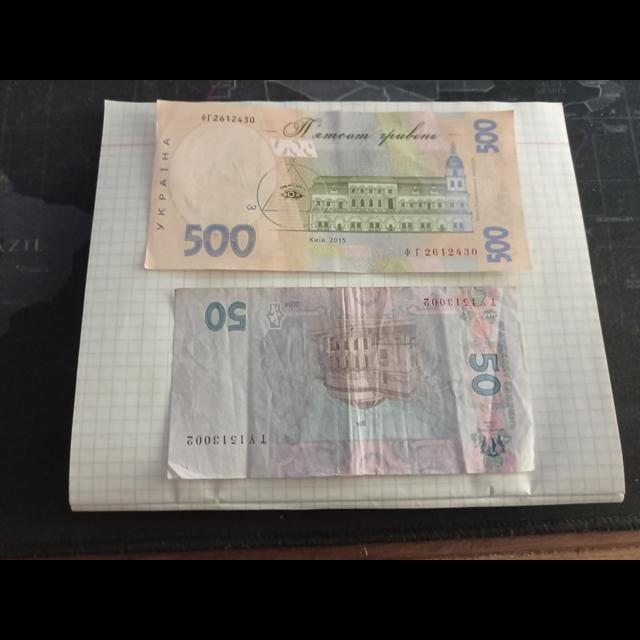500uah: (144, 98, 533, 271)
50uah: (169, 288, 535, 478)
